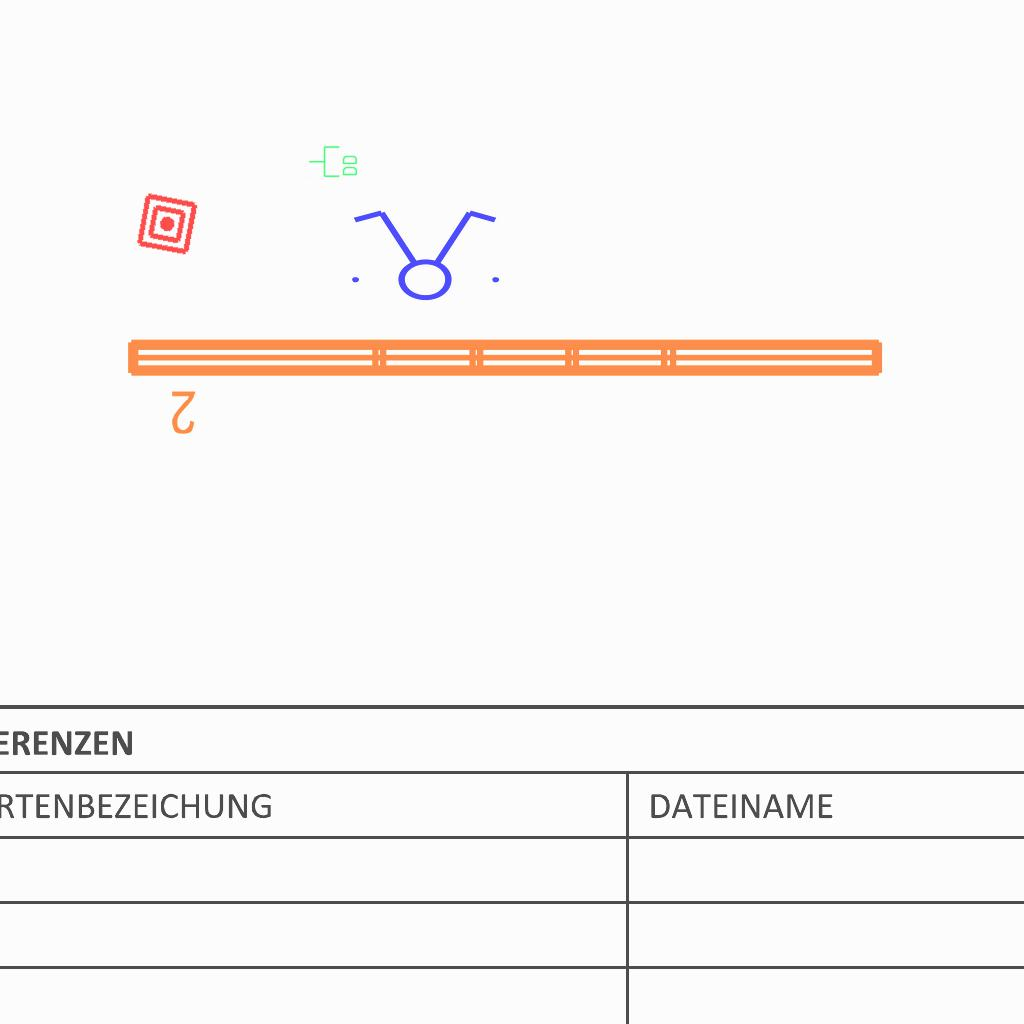Ambulanz_Pendelleuchte_LED: (119, 327, 893, 439)
Datenanschluss_zweifach: (308, 145, 359, 179)
NAM-Nichtautomatischer_Melder: (134, 191, 200, 257)
Serienschalter: (340, 206, 508, 302)
